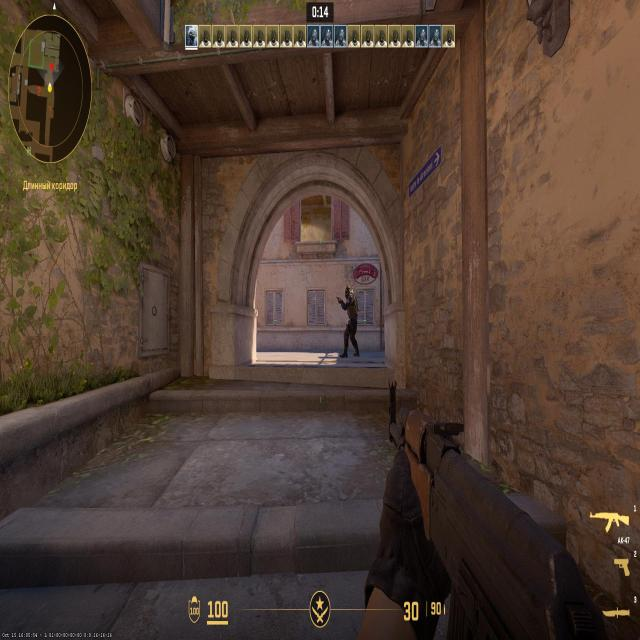CT: (344, 284, 356, 355)
CT_heat: (343, 287, 350, 297)
